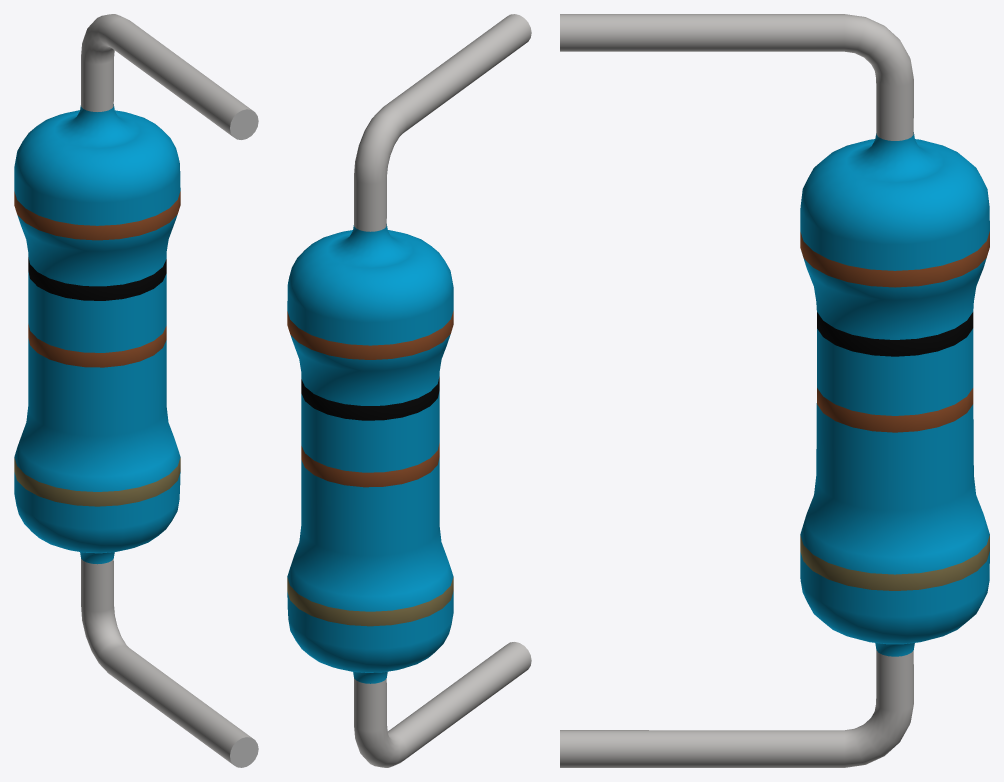
3 views of the same model, side by side, from view 1: azimuth 30°, elevation 25°; view 2: azimuth 150°, elevation 25°; view 3: azimuth 270°, elevation 25° (orthographic). The views are drawn at different scales.
Parts seen in each view (by area): view 1: Sólido1; view 2: Sólido1; view 3: Sólido1.
Part boxes in pixels (<box>): Sólido1: <box>14,14,258,767</box>; Sólido1: <box>287,14,531,767</box>; Sólido1: <box>560,14,989,767</box>.
Bounding box in the file's own units: 0.1185 × 0.5156 × 0.2677.
